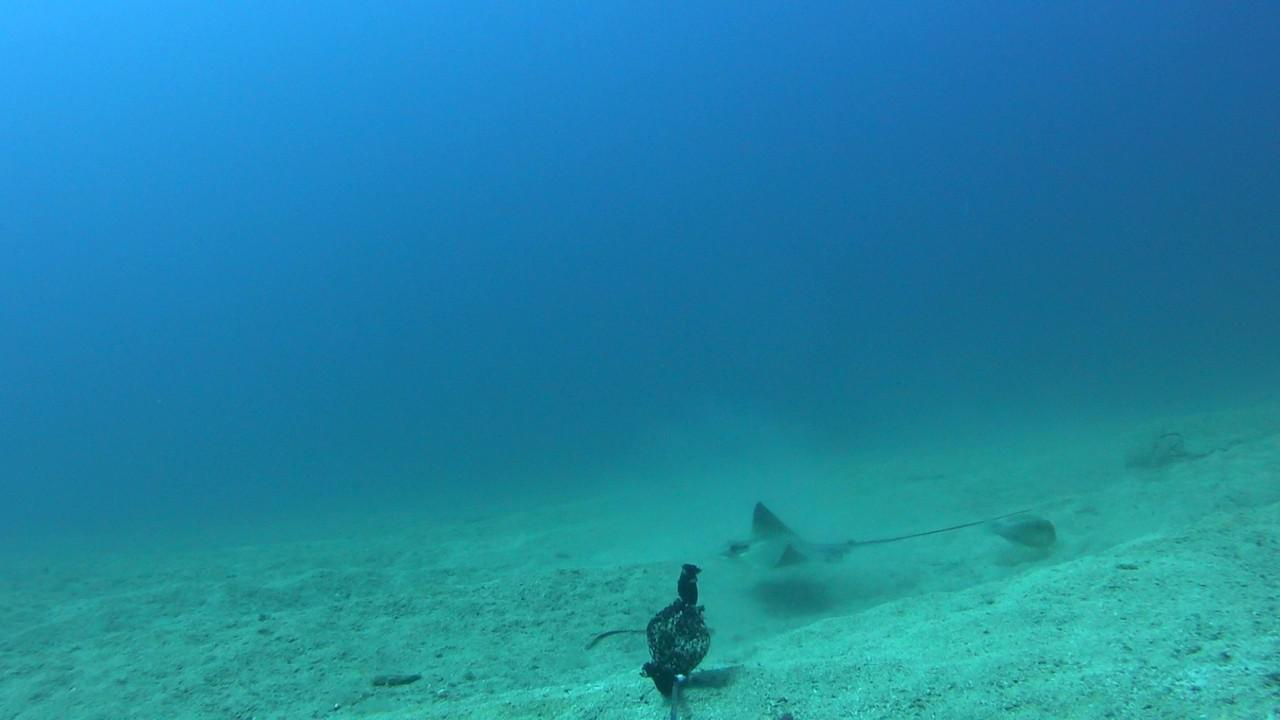myliobatis: (701, 496, 1038, 581)
raor: (991, 519, 1060, 553)
